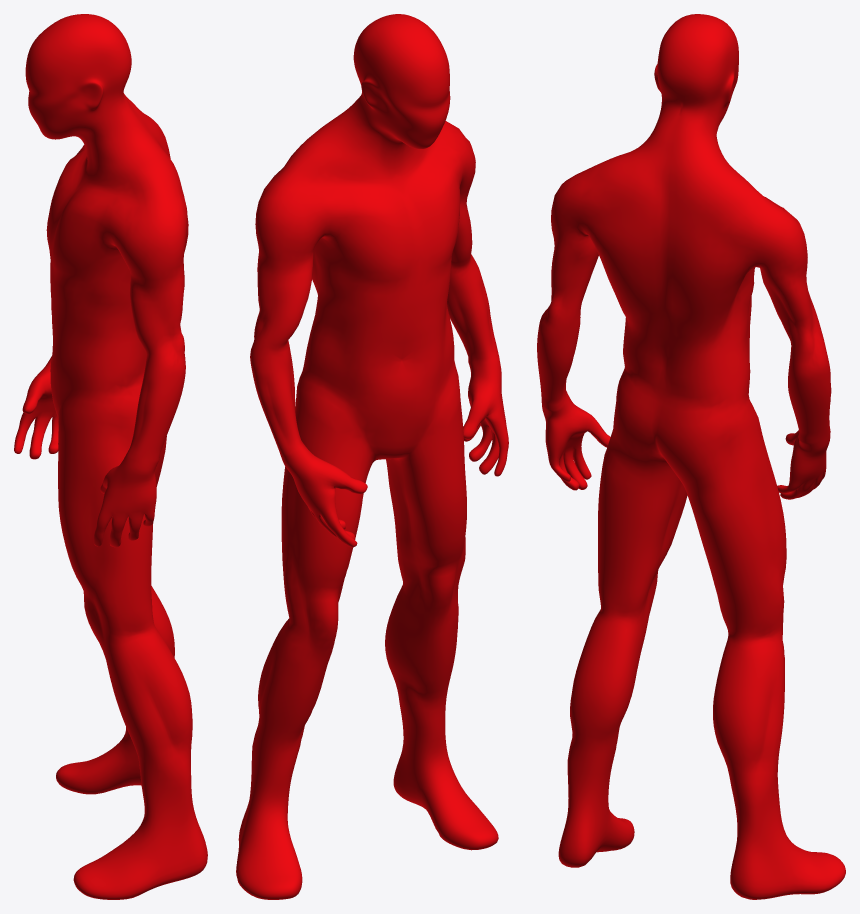
File: dude.glb
3 views of the same model, side by side, from view 1: azimuth 30°, elevation 25°; view 2: azimuth 150°, elevation 25°; view 3: azimuth 270°, elevation 25° (orthographic). The views are drawn at different scales.
Parts seen in each view (by area): view 1: lowman_shoes.007; view 2: lowman_shoes.007; view 3: lowman_shoes.007.
Boxes of the visible parts, box(x1,y1,x2,y2) form: lowman_shoes.007: box(14, 14, 207, 899); lowman_shoes.007: box(236, 14, 508, 899); lowman_shoes.007: box(537, 14, 845, 899).
Size of the model in its own units: 1.35 by 6.02 by 2.02.
